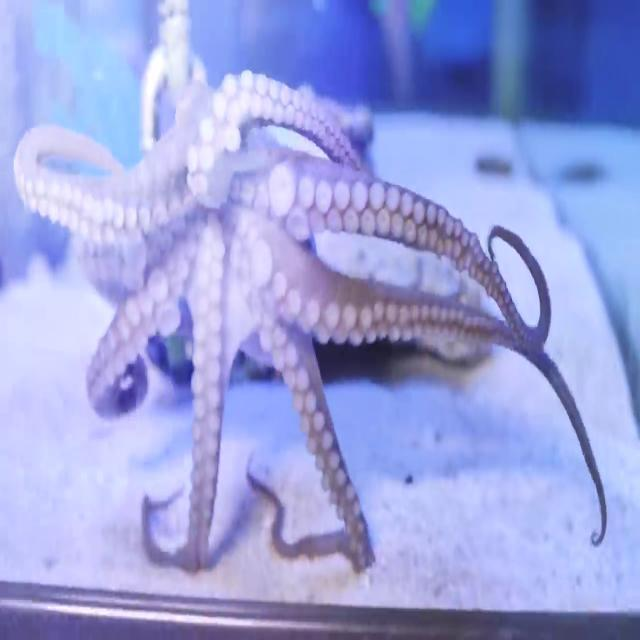octopus: (12, 0, 607, 640)
